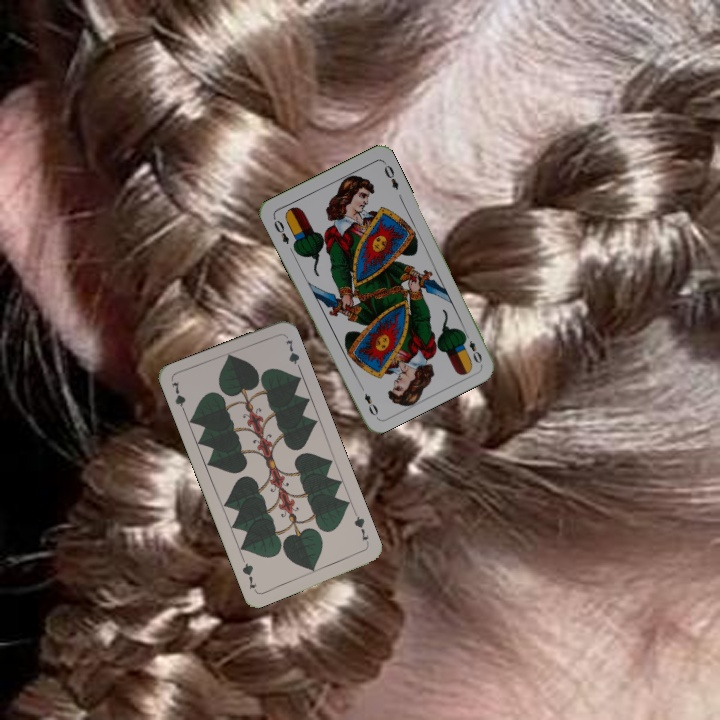EO: (460, 328, 485, 366), (269, 213, 292, 247)
G7: (167, 377, 189, 417), (350, 509, 372, 548)
